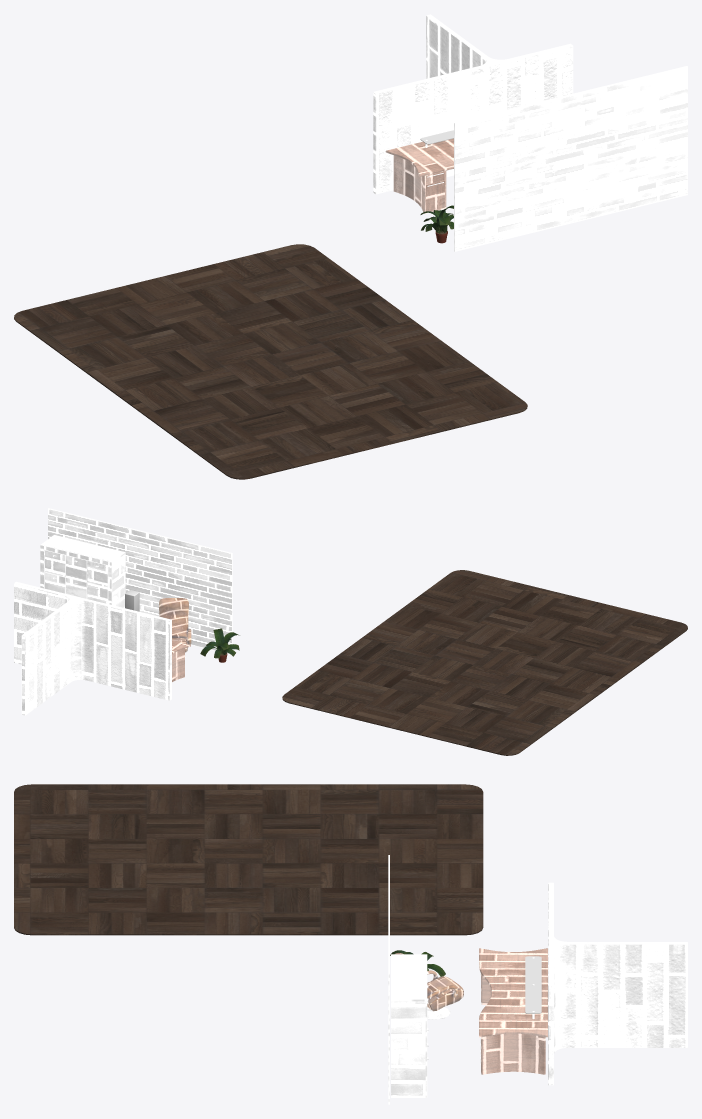
File: officeReference.fbx
3 views of the same model, one above another, from view 1: azimuth 30°, elevation 25°; view 2: azimuth 150°, elevation 25°; view 3: azimuth 270°, elevation 25° (orthographic). The views are drawn at different scales.
Parts seen in each view (by area): view 1: SM_SofaLA_Floor, SM_Cube_1, SM_CenterRoomsinnerWall, SM_DeskManagerA; view 2: SM_SofaLA_Floor, SM_CenterRoomsinnerWall, SM_Cube_1, SM_DrawerBox, SM_ArmchairManagerA, SM_PlantA, SM_DeskManagerA; view 3: SM_SofaLA_Floor, SM_CenterRoomsinnerWall, SM_DeskManagerA, SM_DrawerBox, SM_ArmchairManagerA, SM_Cube_1.
Part boxes in pixels (x1,y1,x2,y2): SM_SofaLA_Floor: (14,244,527,479); SM_Cube_1: (454,66,687,251); SM_CenterRoomsinnerWall: (373,14,573,194); SM_DeskManagerA: (385,130,453,213); SM_SofaLA_Floor: (282,570,687,755); SM_CenterRoomsinnerWall: (14,581,171,715); SM_Cube_1: (48,508,232,654); SM_DrawerBox: (40,535,125,607); SM_ArmchairManagerA: (159,598,191,657); SM_PlantA: (200,628,239,662); SM_DeskManagerA: (172,640,190,681); SM_SofaLA_Floor: (14,784,483,935); SM_CenterRoomsinnerWall: (548,882,687,1085); SM_DeskManagerA: (479,948,547,1074); SM_DrawerBox: (391,954,428,1097); SM_ArmchairManagerA: (395,953,463,1019); SM_Cube_1: (388,855,389,1104).
Size of what is drawn, in the model's own units: 1309 by 254 by 1171.
